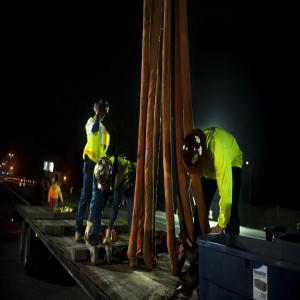red: (182, 130, 209, 175), (95, 159, 115, 192), (97, 99, 111, 121)
